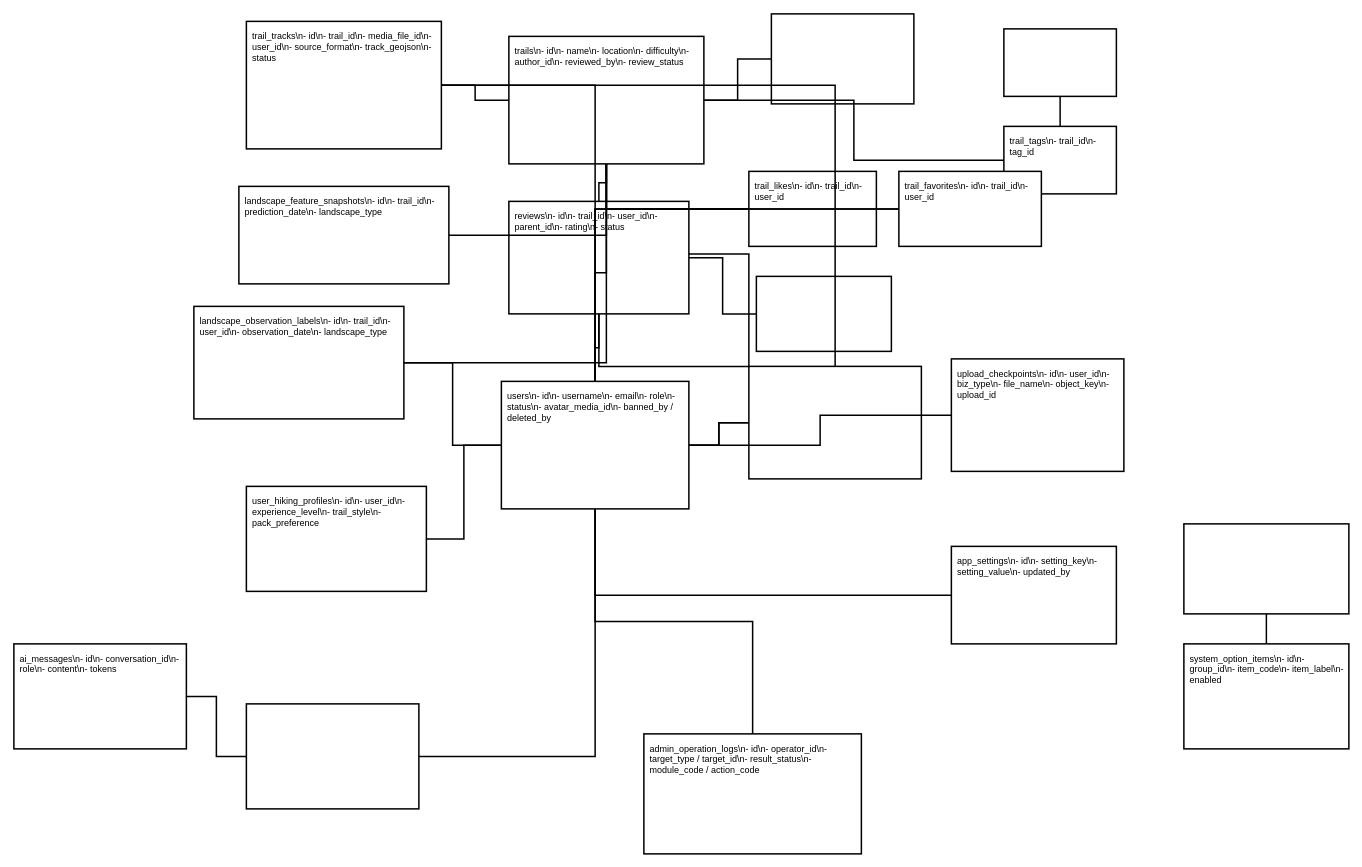
The diagram is 1362 pixels wide and 867 high, and some of its shapes have lost their labels. The shapes that lost their labels are listed below. From the top down, each one's centre as x and y in pixels, then its label:
At point (842, 58): "trail_images\n- id\n- trail_id\n- image\n- sort_order".
At point (1060, 62): "tags\n- id\n- name".
At point (823, 313): "review_images\n- id\n- review_id\n- image".
At point (835, 422): "media_files\n- id\n- user_id\n- biz_type\n- object_key\n- url\n- status".
At point (1266, 568): "system_option_groups\n- id\n- group_code\n- group_name\n- status".
At point (332, 756): "ai_conversations\n- id\n- user_id\n- title\n- model\n- status".
